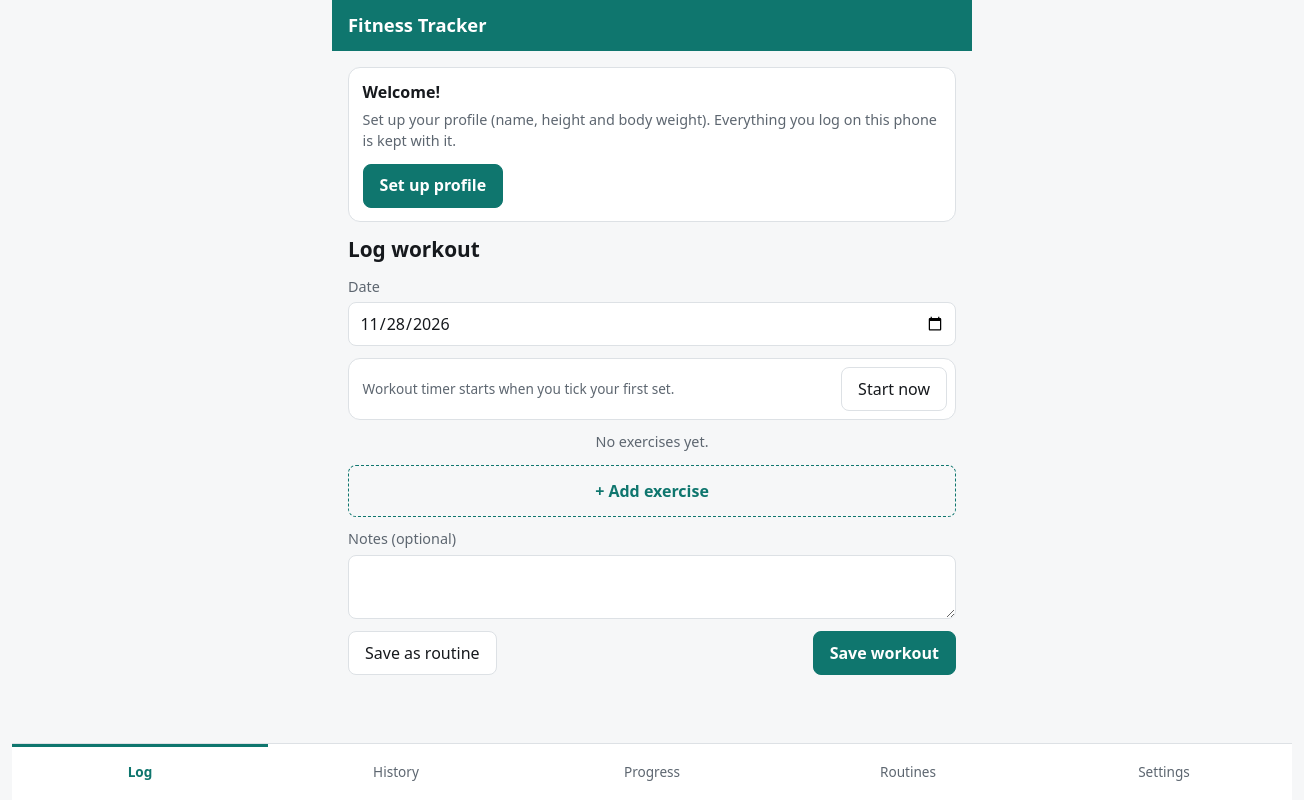
Test: App › per-exercise rest and workout timer › can be started by hand and reset
Click the button "Start now" at x=894, y=389, box [841, 367, 947, 411]
Wait 65000 ms
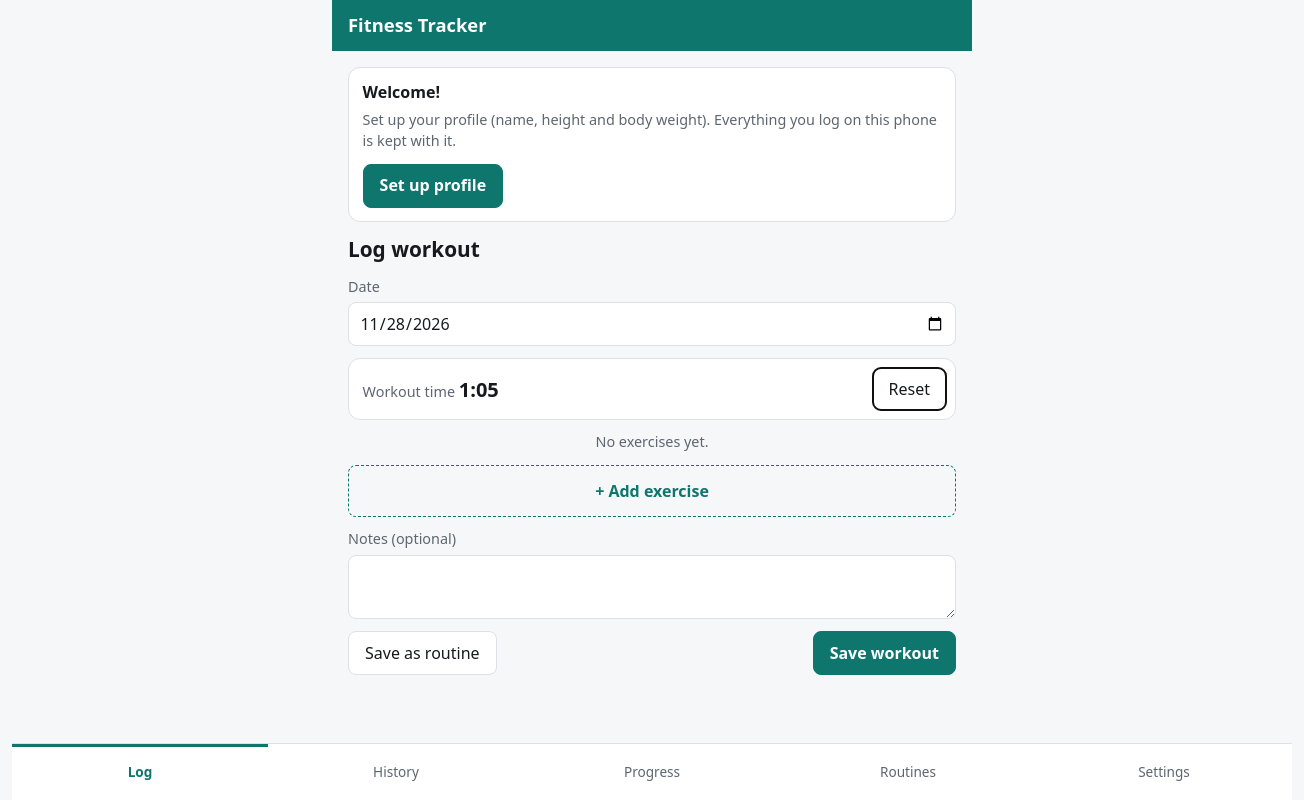
Result: the element "Workout time" shows "1:05" at [459, 376, 499, 403]
Click the button "Reset" at x=909, y=389, box [872, 367, 947, 411]
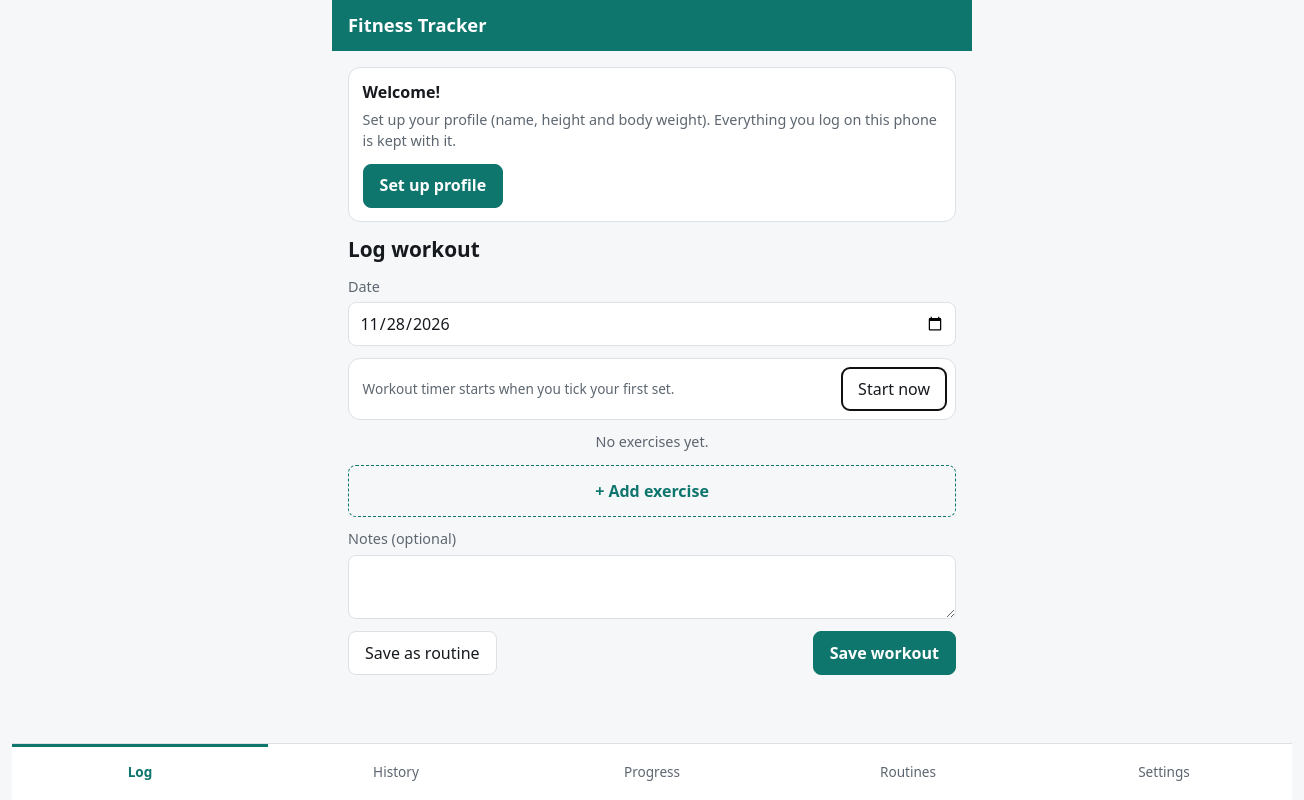
Result: the button "Start now" is shown at [841, 367, 947, 411]
